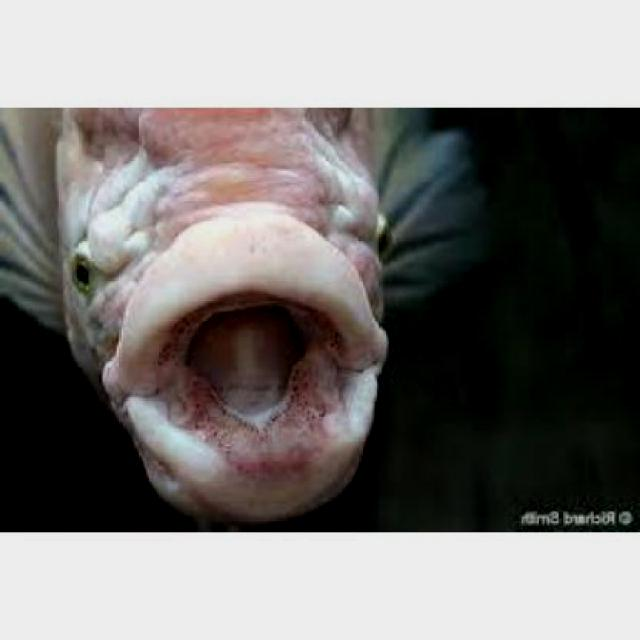gurame: (4, 106, 476, 516)
